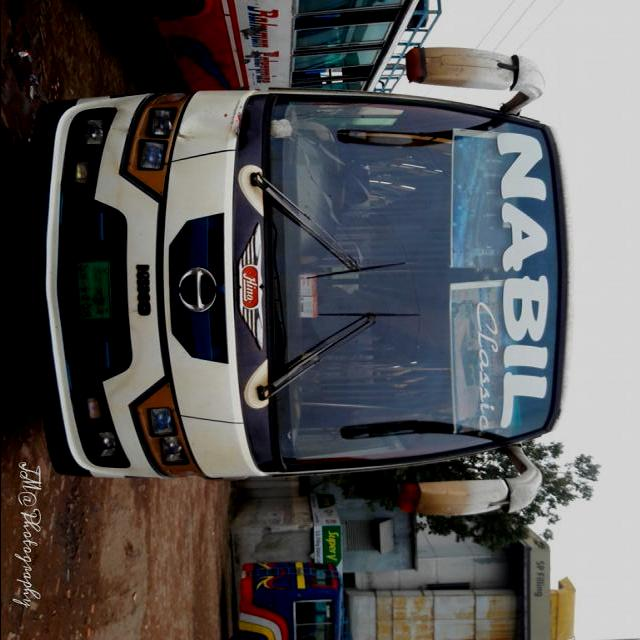bus: (25, 46, 578, 520)
